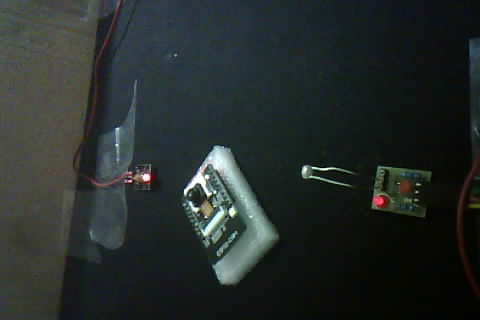esp32: (180, 147, 267, 281)
